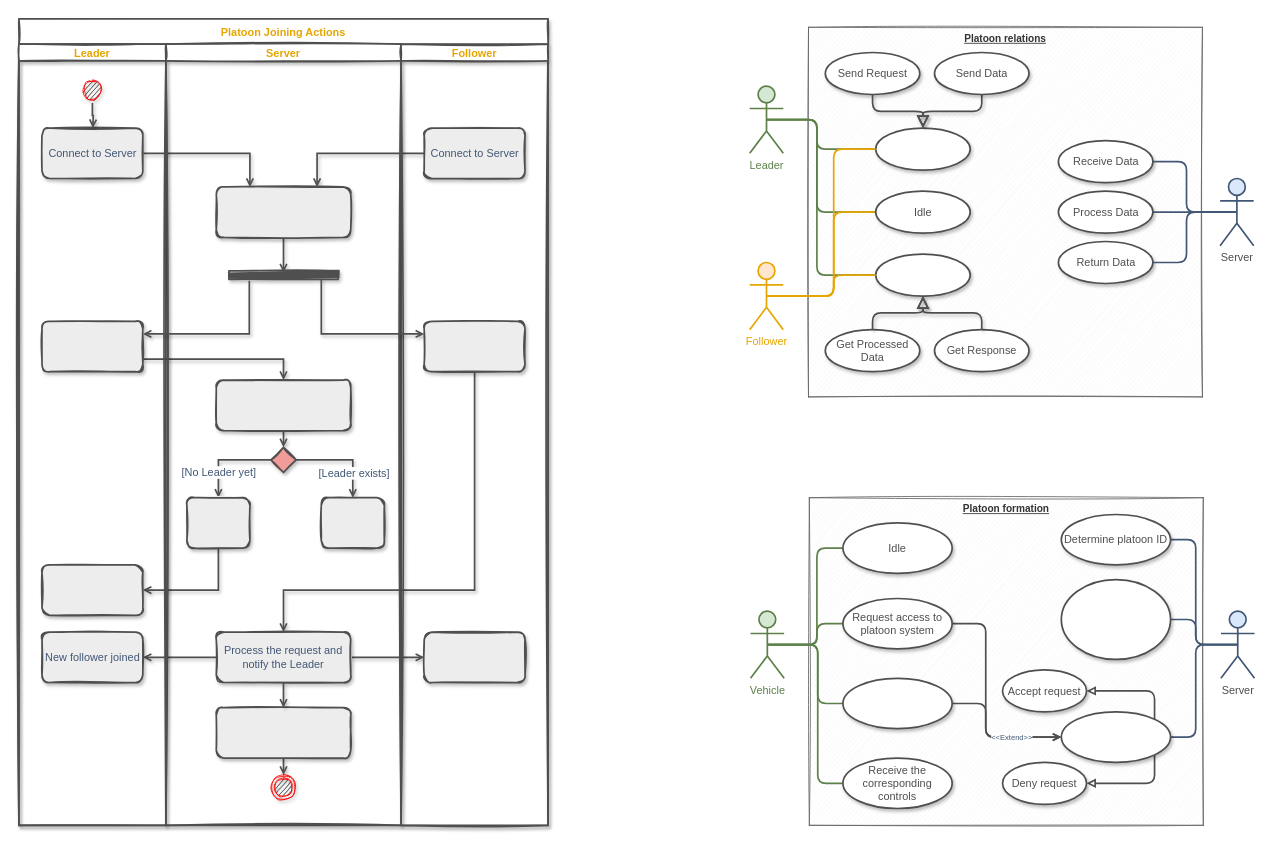
Image size: 1269x846. Some labels were removed from this diagram. The centre of each missing label's shape, as x and y in pixels:
Assign Leader: point 218,523
Check platoon busyness and its member's statuses: point 1116,620
Check platoon members and their status: point 284,406
Maintain platoon: point 284,733
Process the request and determine platoon ID: point 284,213
Receive Follower rights and functionalities: point 475,658
Receive Leader rights and functionalities: point 92,591
Receive message: point 923,275
Request manager: point 1116,738
Request to assign a specific role: point 898,704
Request to become a Follower: point 475,347
Request to become a Leader: point 92,347
Return refusal: point 353,523
Send message: point 923,149
